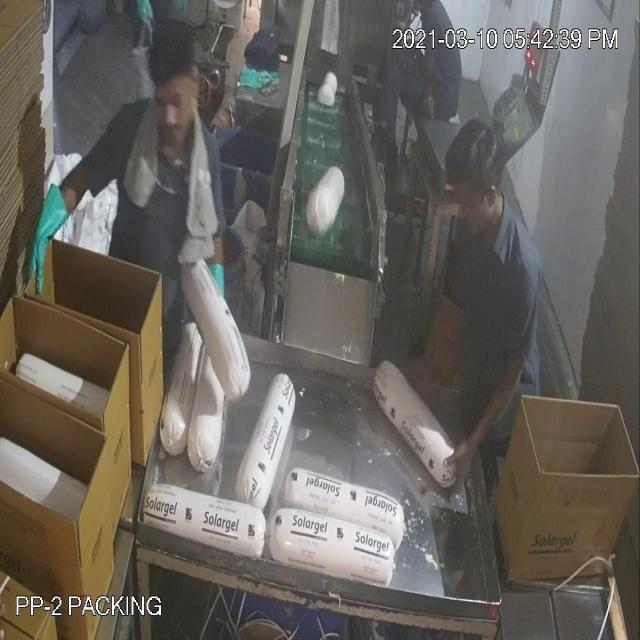No_Gloves: (49, 140, 487, 405)
